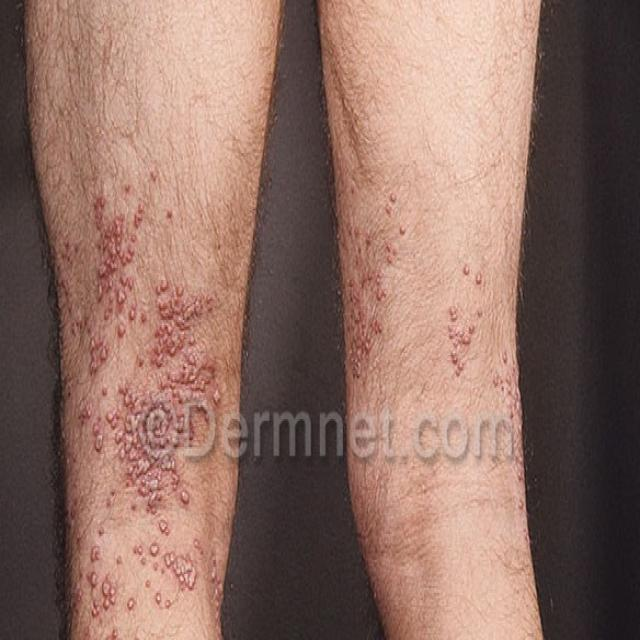Vascular Tumors: (61, 168, 216, 640), (322, 130, 417, 442), (440, 203, 528, 524)
